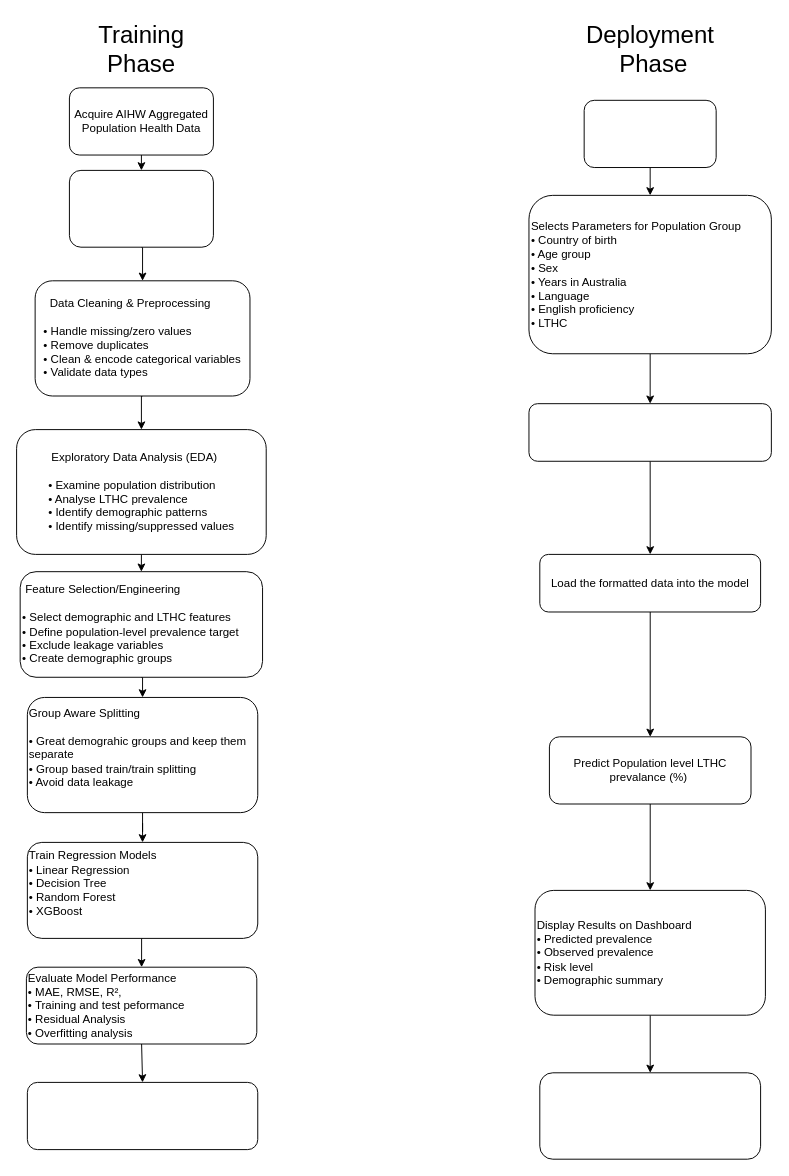
Image size: 789x1176. Some labels were removed from this diagram. Each missing label, with the centre of its shape:
Generate Data Visualizations and Produce health insights: the point at 650,1115
Load and Prepare AIHW Dataset: the point at 140,208
Population Health User Access Dashboard: the point at 649,133
Save Best Performing Model: the point at 142,1115
Validate and preprocess selected parameters format them for AI model: the point at 649,432
